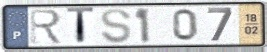0: (171, 8, 200, 43)
1: (134, 7, 152, 45)
7: (206, 6, 236, 44)
R: (28, 8, 65, 46)
S: (99, 7, 133, 45)
T: (66, 6, 96, 47)
